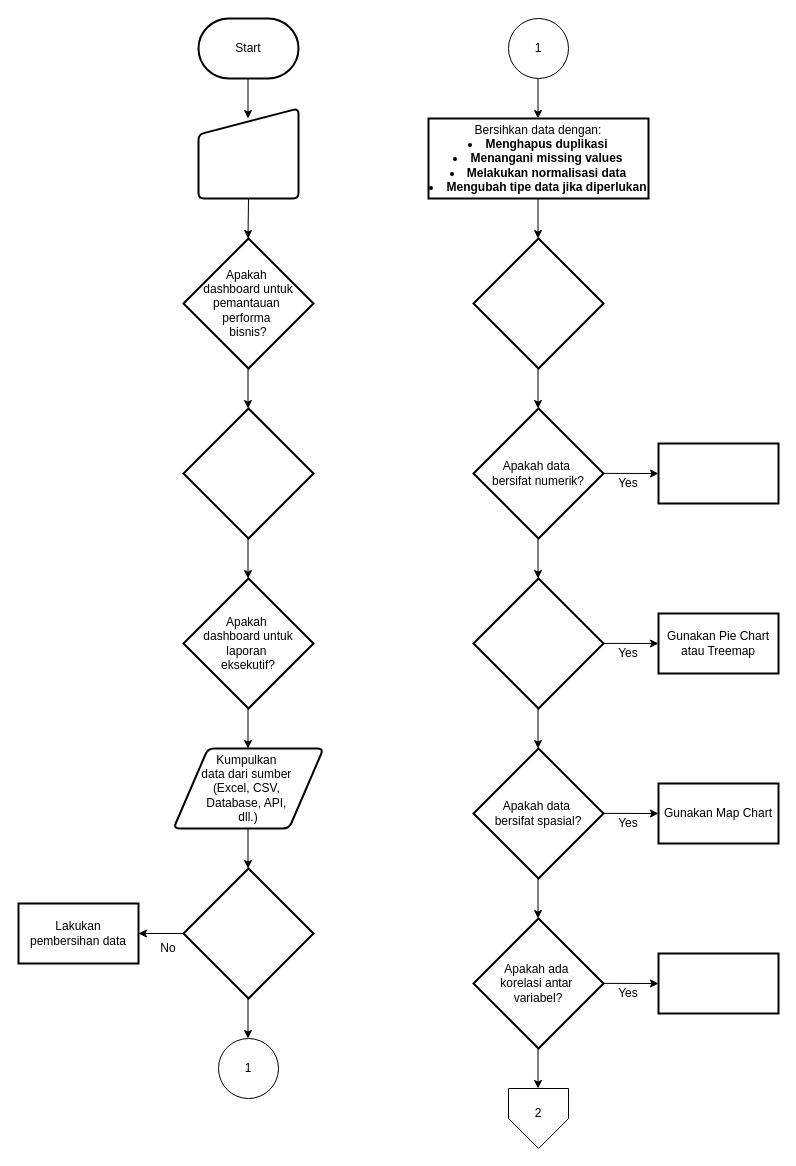
Image size: 796x1166. Some labels were removed from this diagram. The centre of each missing label's shape, as x and y in pixels:
"Apakah dashboard untuk analisis tren penjualan?" goes at pixel 248 473.
"Apakah data bersifat kategori?" goes at pixel 538 643.
"Apakah format data sudah sesuai kebutuhan?" goes at pixel 248 933.
"Gunakan Line Chart atau Bar Chart" goes at pixel 718 473.
"Gunakan Scatter Plot" goes at pixel 718 983.
"Identifikasi tujuan dashboard" goes at pixel 248 153.
"Pilih jenis visualisasi yang sesuai dengan data" goes at pixel 538 303.
